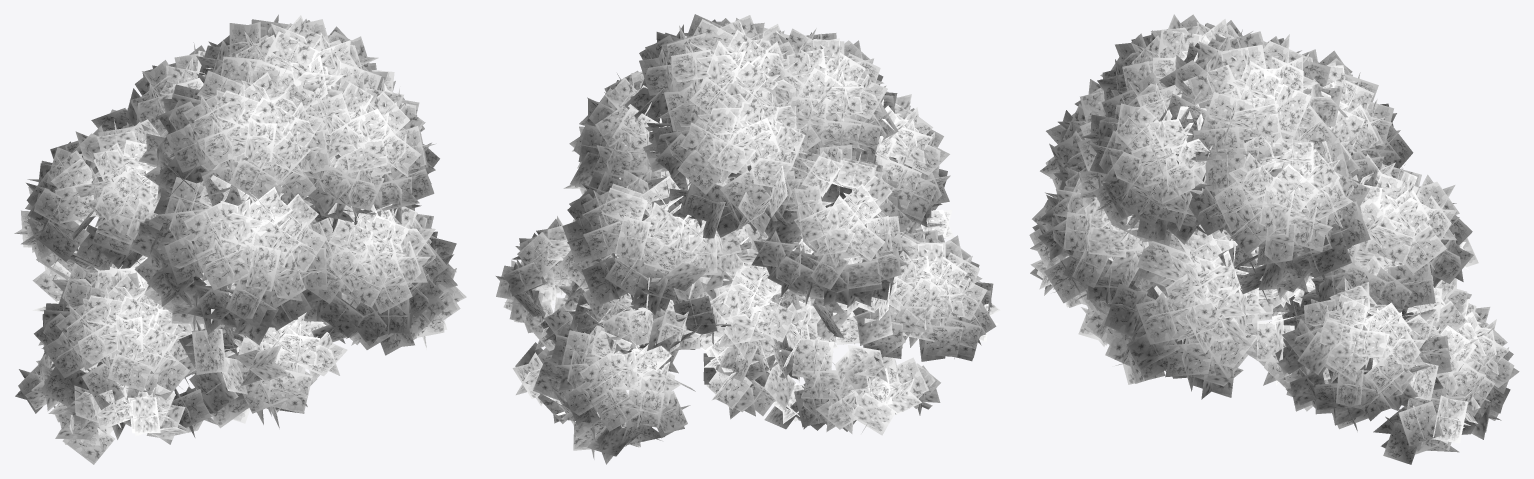
Rendered from TraditionalKoreanHouse_TreeLeafC02.fbx.
The picture shows the model from 3 angles, left to right: view 1: azimuth 30°, elevation 25°; view 2: azimuth 150°, elevation 25°; view 3: azimuth 270°, elevation 25°; orthographic projection. The views are drawn at different scales.
Visible parts, largest first — view 1: TraditionalKoreanHouse_TreeLeafC02; view 2: TraditionalKoreanHouse_TreeLeafC02; view 3: TraditionalKoreanHouse_TreeLeafC02.
Part boxes in pixels (left/top/right/bottom): TraditionalKoreanHouse_TreeLeafC02: left=14, top=14, right=466, bottom=464; TraditionalKoreanHouse_TreeLeafC02: left=496, top=14, right=1000, bottom=464; TraditionalKoreanHouse_TreeLeafC02: left=1029, top=14, right=1519, bottom=464.
Size of the model in its own units: 647 by 553 by 625.
